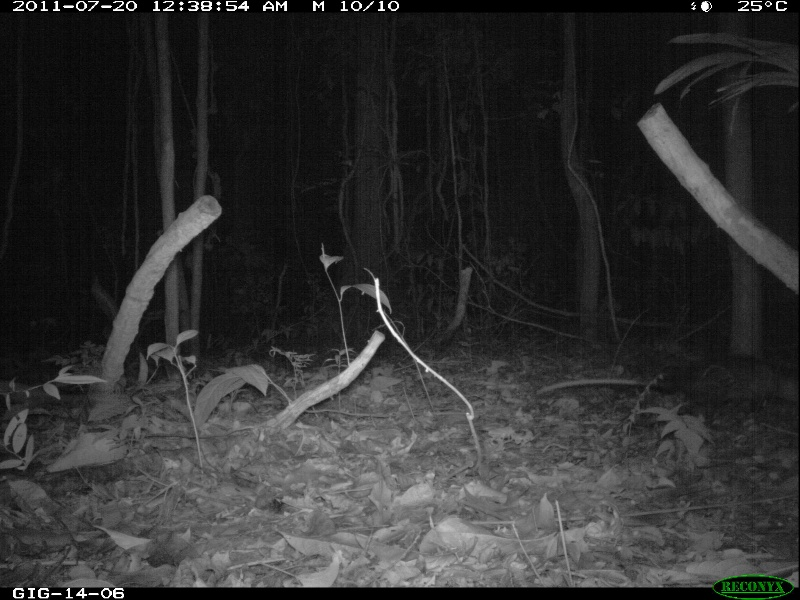opossum: (540, 353, 787, 412)
